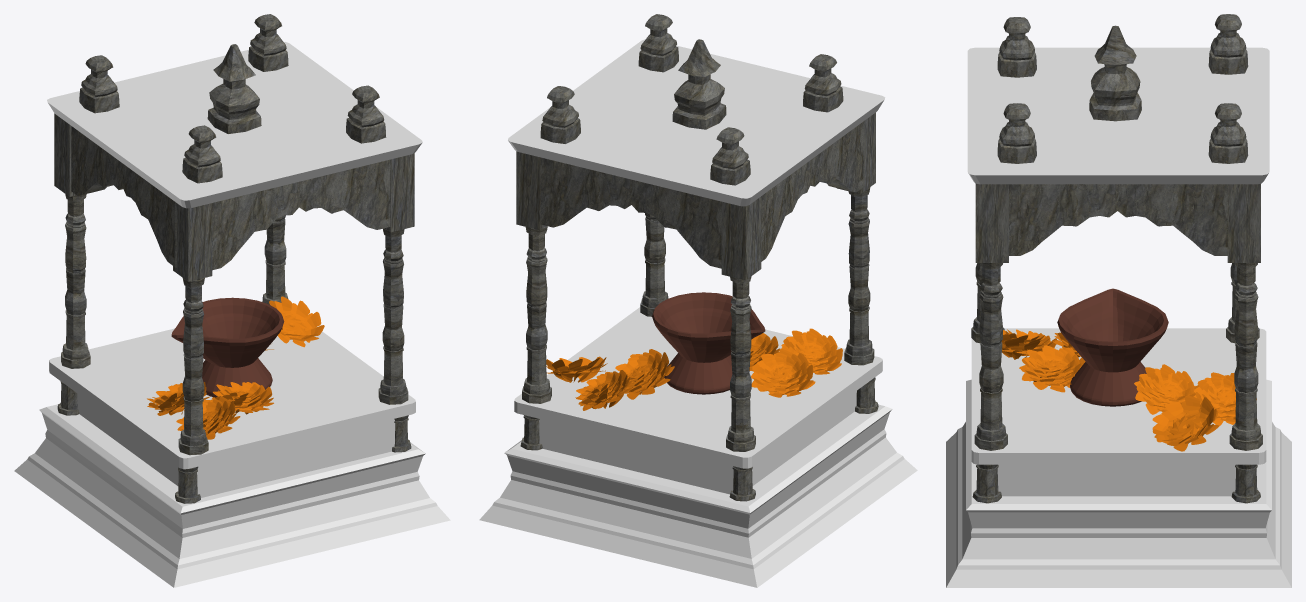
The model's file is LampNew.fbx.
3 renders of one model, left to right at view 1: azimuth 30°, elevation 25°; view 2: azimuth 150°, elevation 25°; view 3: azimuth 270°, elevation 25°, orthographic. The views are drawn at different scales.
Parts seen in each view (by area): view 1: Cube; view 2: Cube; view 3: Cube.
Boxes of the visible parts, x1,y1,x2,y2 form: Cube: (14, 14, 450, 587); Cube: (479, 14, 917, 587); Cube: (946, 14, 1291, 587).
Size of the model in its own units: 17799 by 27713 by 17799.
